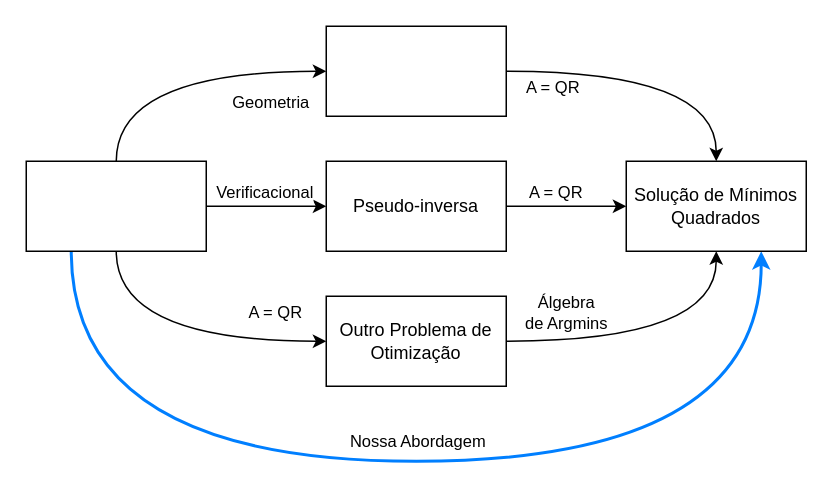
The diagram is 833 pixels wide and 489 high, and some of its shapes have lost their labels. The box of each missing label's shape, as (x1, y1, x2, y2) in pixels:
Equações Normais: (325, 25, 506, 116)
Problema de Mínimos Quadrados: (25, 160, 206, 251)
